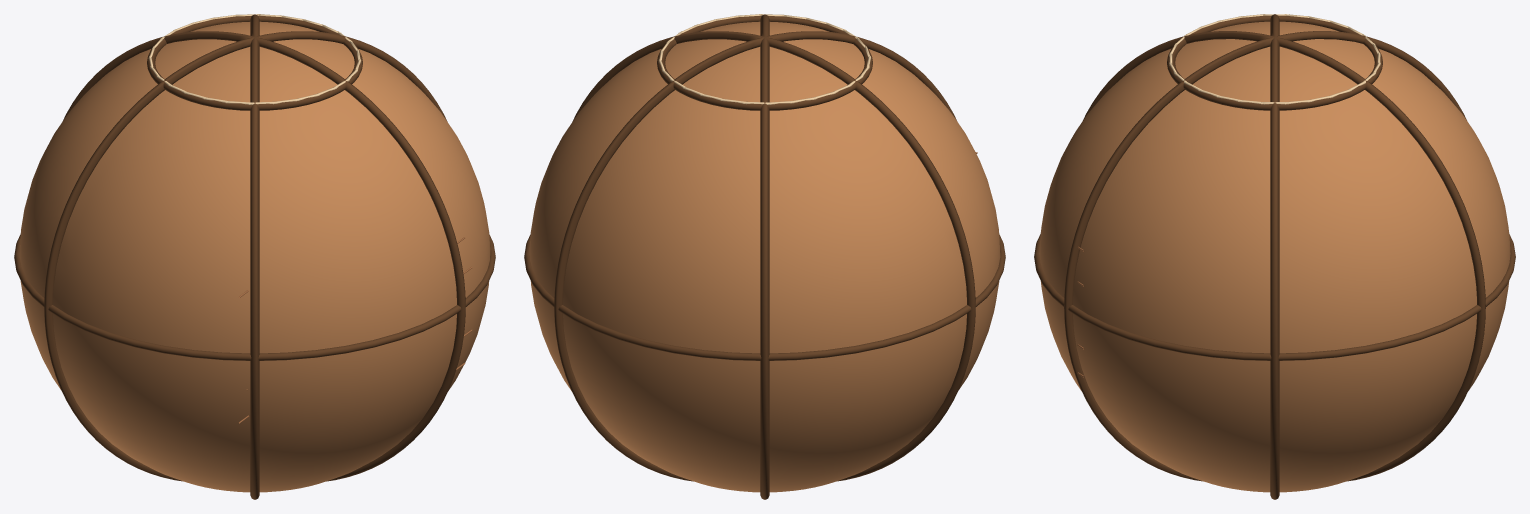
File: Medizinball_3D.glb
The picture shows the model from 3 angles, left to right: view 1: azimuth 30°, elevation 25°; view 2: azimuth 150°, elevation 25°; view 3: azimuth 270°, elevation 25°; orthographic projection.
Visible parts, largest first — view 1: Medizinball_3D__web_brown_leather_medicine_ball_panels, Medizinball_3D__web_dark_recessed_medicine_ball_seams, Medizinball_3D__web_tan_medicine_ball_top_stitches; view 2: Medizinball_3D__web_brown_leather_medicine_ball_panels, Medizinball_3D__web_dark_recessed_medicine_ball_seams, Medizinball_3D__web_tan_medicine_ball_top_stitches; view 3: Medizinball_3D__web_brown_leather_medicine_ball_panels, Medizinball_3D__web_dark_recessed_medicine_ball_seams, Medizinball_3D__web_tan_medicine_ball_top_stitches.
Boxes of the visible parts, x1,y1,x2,y2 form: Medizinball_3D__web_brown_leather_medicine_ball_panels: (19, 21, 490, 492); Medizinball_3D__web_dark_recessed_medicine_ball_seams: (14, 14, 495, 499); Medizinball_3D__web_tan_medicine_ball_top_stitches: (148, 14, 361, 104); Medizinball_3D__web_brown_leather_medicine_ball_panels: (529, 21, 1000, 492); Medizinball_3D__web_dark_recessed_medicine_ball_seams: (524, 14, 1005, 499); Medizinball_3D__web_tan_medicine_ball_top_stitches: (658, 14, 871, 104); Medizinball_3D__web_brown_leather_medicine_ball_panels: (1039, 21, 1510, 492); Medizinball_3D__web_dark_recessed_medicine_ball_seams: (1034, 14, 1515, 499); Medizinball_3D__web_tan_medicine_ball_top_stitches: (1169, 14, 1380, 104).
Size of the model in its own units: 0.701 by 0.701 by 0.695.
